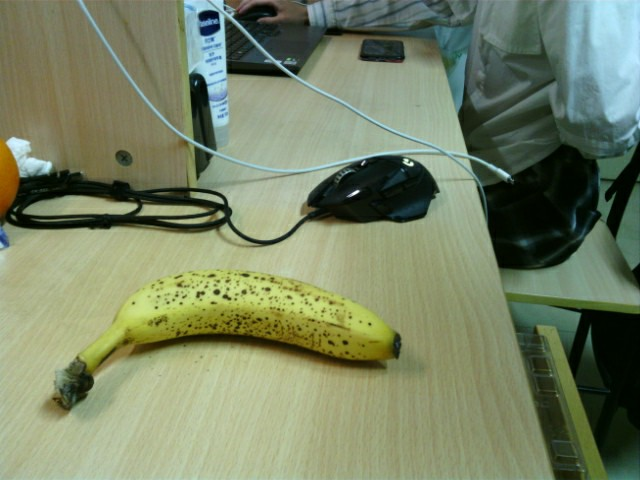normal_banana: (51, 271, 401, 415)
